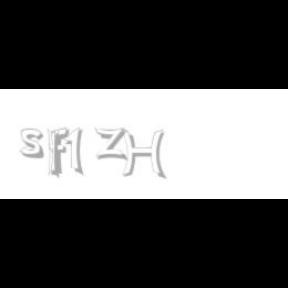1: (62, 128, 84, 176)
H: (120, 128, 166, 180)
f: (49, 128, 73, 174)
l: (47, 128, 63, 180)
s: (20, 128, 48, 160)
z: (94, 128, 130, 160)
